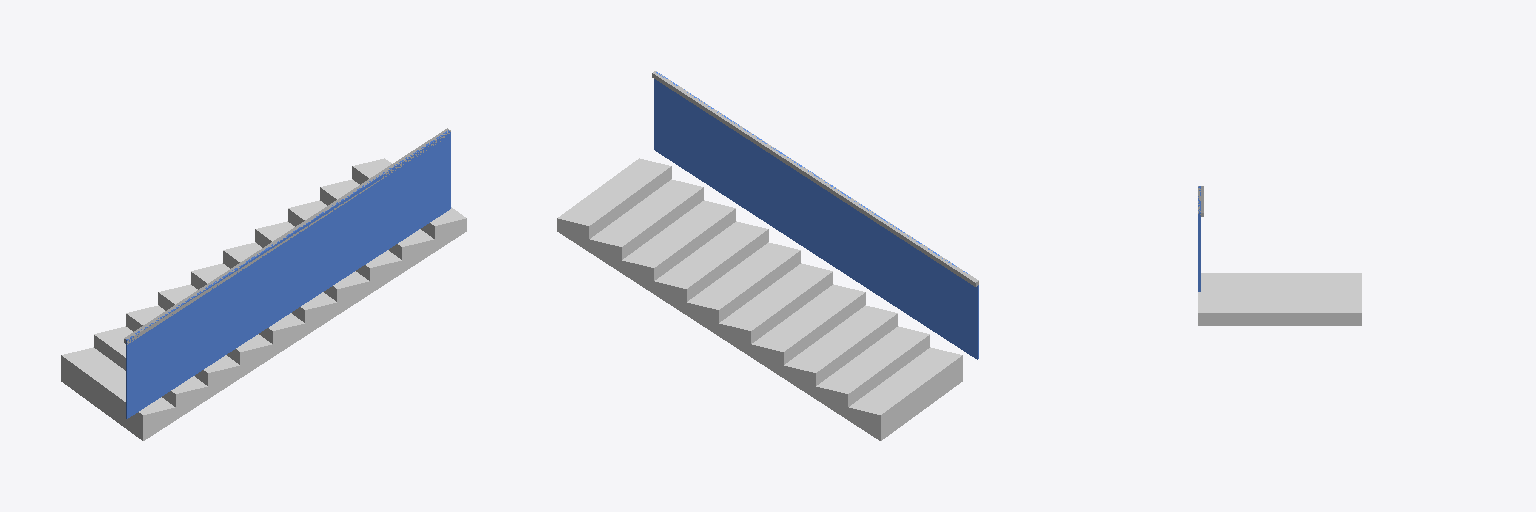
File: louti.obj
3 renders of one model, left to right at view 1: azimuth 30°, elevation 25°; view 2: azimuth 150°, elevation 25°; view 3: azimuth 270°, elevation 25°, orthographic.
Parts seen in each view (by area): view 1: Group2, Group1, Group3; view 2: Group1, Group2, Group3; view 3: Group1.
Boxes of the visible parts, box(x1,y1,x2,y2) form: Group2: box(126, 130, 450, 418); Group1: box(61, 158, 466, 440); Group3: box(124, 128, 450, 344); Group1: box(557, 158, 962, 440); Group2: box(654, 72, 978, 359); Group3: box(652, 71, 978, 286); Group1: box(1198, 273, 1361, 325).
Bounding box in the file's own units: 9178 × 6092 × 3841.